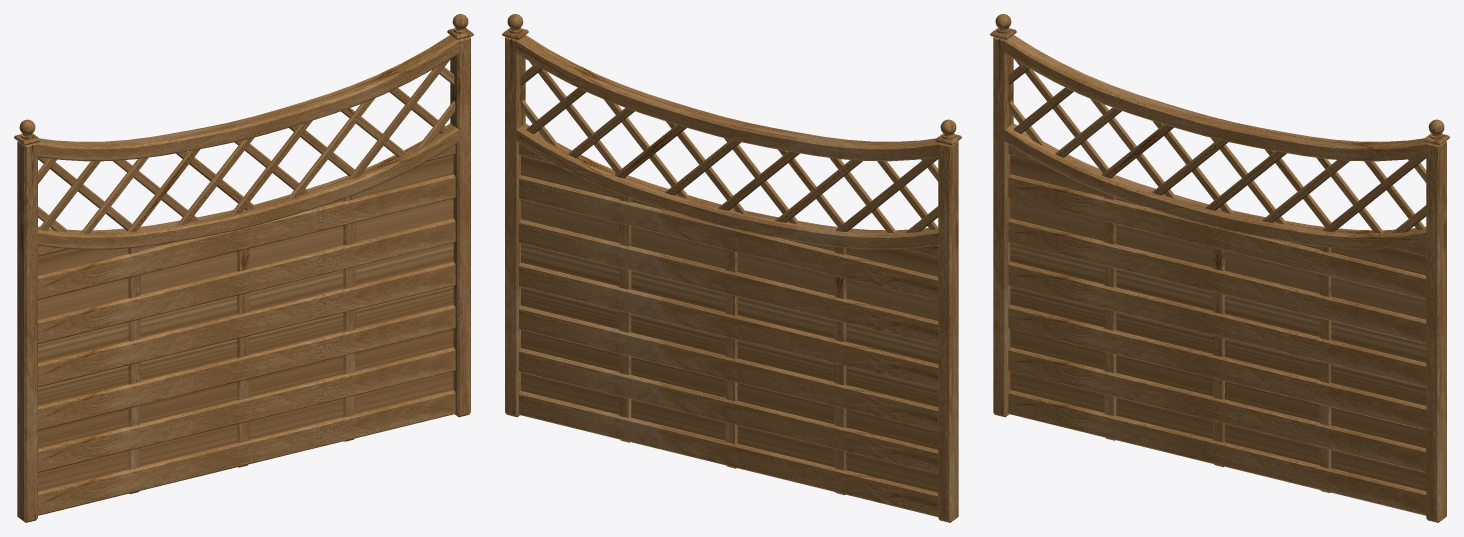
The model's file is Fence.fbx.
The picture shows the model from 3 angles, left to right: view 1: azimuth 30°, elevation 25°; view 2: azimuth 150°, elevation 25°; view 3: azimuth 330°, elevation 25°; orthographic projection.
Parts seen in each view (by area): view 1: Fence wood.002; view 2: Fence wood.002; view 3: Fence wood.002.
Boxes of the visible parts, box(x1,y1,x2,y2) form: Fence wood.002: box(14, 14, 473, 522); Fence wood.002: box(502, 14, 961, 522); Fence wood.002: box(990, 14, 1449, 522).
Size of the model in its own units: 187 by 159 by 7.06.
Materials: 1 (1 with a texture image).
